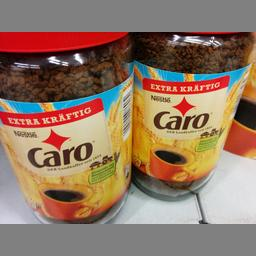coffee: (0, 31, 133, 222), (129, 31, 255, 201)
